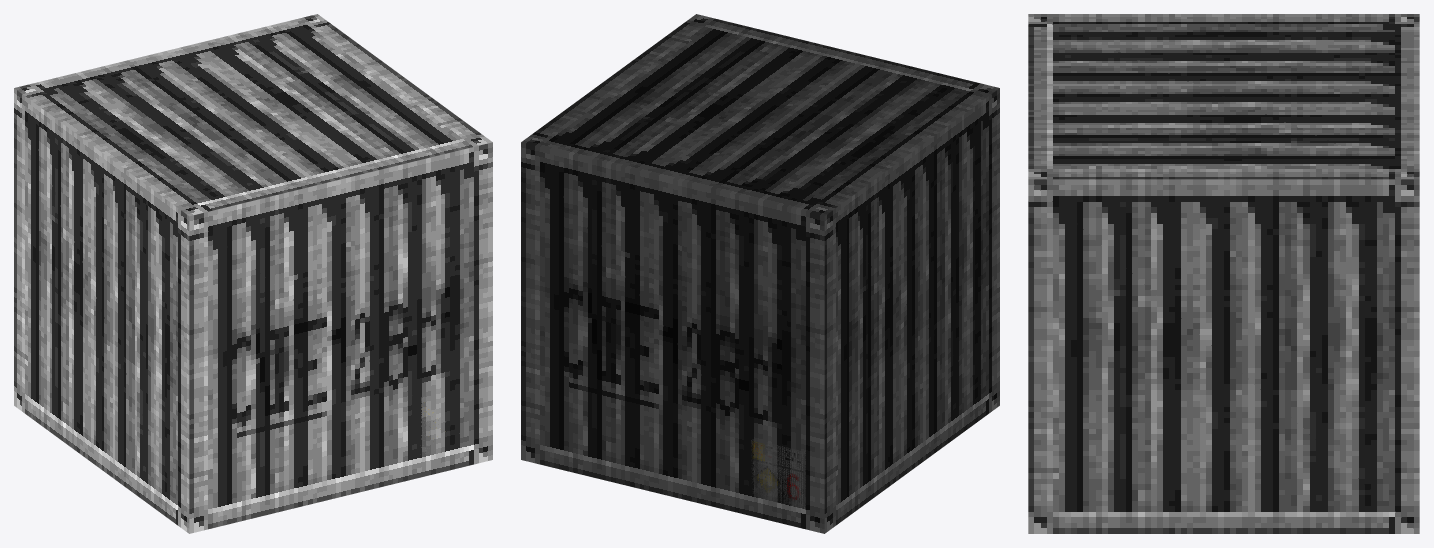
Rendered from Pmetal_crate2Z.obj.
The picture shows the model from 3 angles, left to right: view 1: azimuth 30°, elevation 25°; view 2: azimuth 150°, elevation 25°; view 3: azimuth 270°, elevation 25°; orthographic projection. The views are drawn at different scales.
Size of the model in its own units: 1166 by 1166 by 1166.
3 materials, 3 textured.
